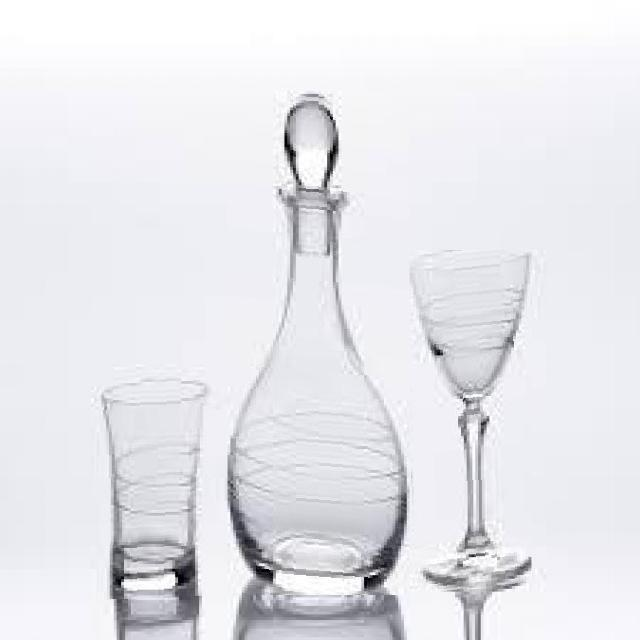Glass: (226, 90, 410, 595), (408, 250, 532, 594), (100, 377, 214, 600)
